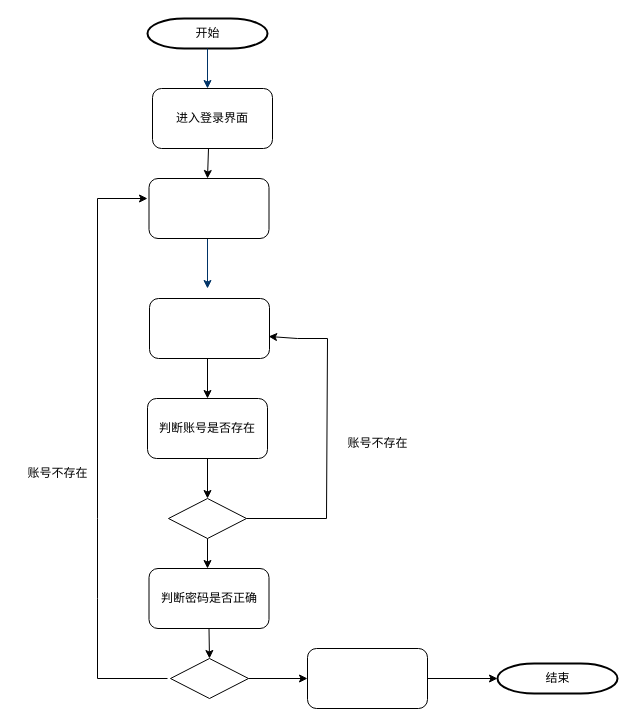
This 635x726 diagram has some shape labels left out. The box of each missing label's shape, as (x1, y1, x2, y2) in pixels:
登录成功: (306, 648, 428, 708)
输入学生账号信息: (148, 178, 269, 238)
选择学生，教师，管理员类型登录: (148, 298, 270, 358)
